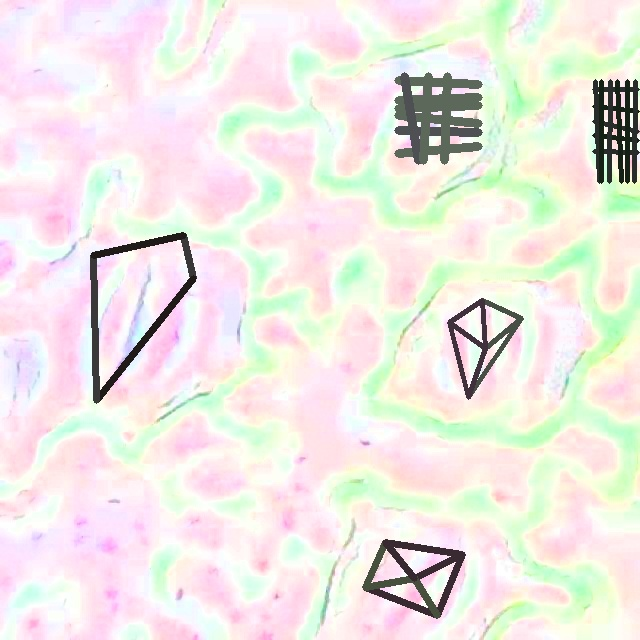open: (90, 232, 196, 403), (362, 539, 465, 618), (395, 73, 481, 164), (447, 298, 523, 399), (592, 79, 640, 183)
